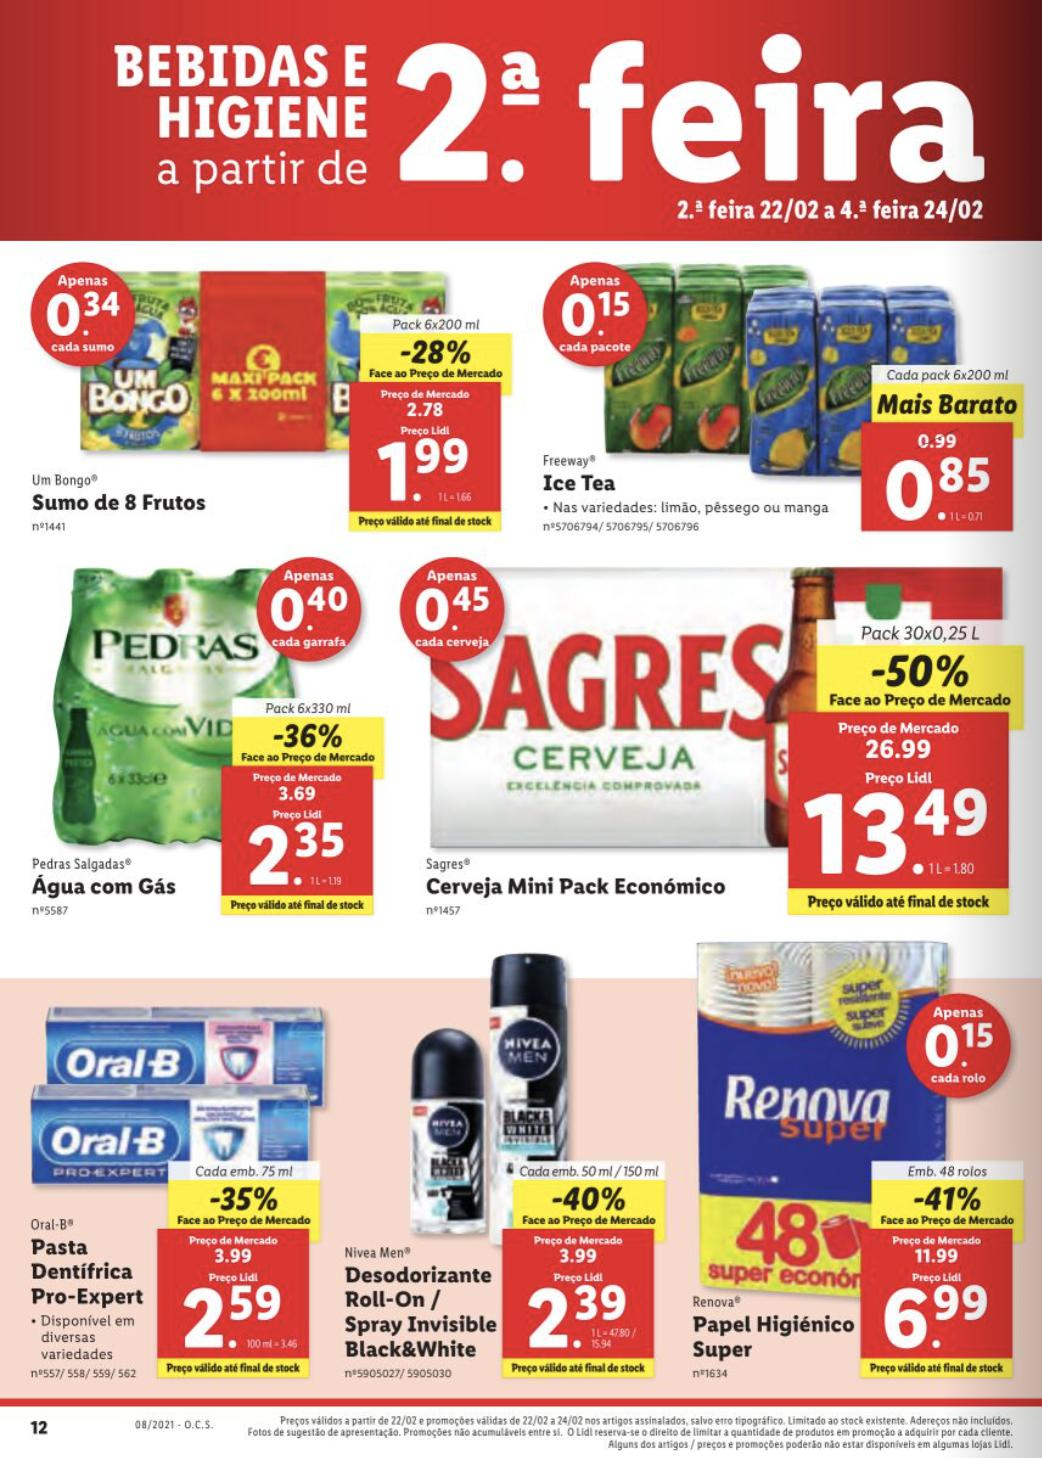name: (341, 1263, 501, 1363), (422, 872, 731, 903), (28, 1232, 148, 1308), (688, 1310, 857, 1363), (28, 483, 217, 524), (539, 468, 630, 506)
price: (801, 779, 995, 881), (370, 424, 484, 503), (873, 1279, 994, 1353), (230, 815, 351, 890), (513, 1283, 635, 1357), (881, 450, 997, 525), (177, 1283, 291, 1352)
product: (413, 563, 1035, 928), (673, 944, 1026, 1406), (333, 944, 670, 1408), (516, 244, 1035, 539), (11, 555, 413, 928), (11, 250, 522, 544), (14, 992, 355, 1391)
promotion: (862, 650, 973, 693), (544, 1177, 632, 1221), (908, 1181, 988, 1221), (391, 335, 475, 370), (268, 717, 344, 753), (206, 1183, 281, 1213)
